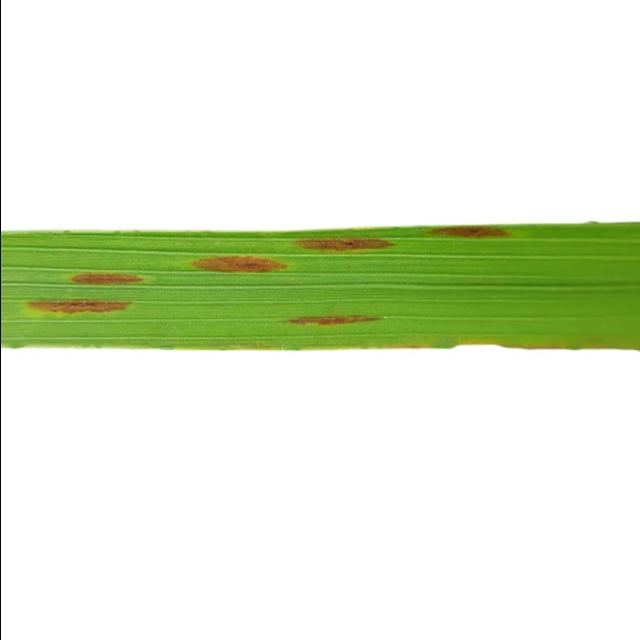Narrow brown: (0, 205, 640, 396)
